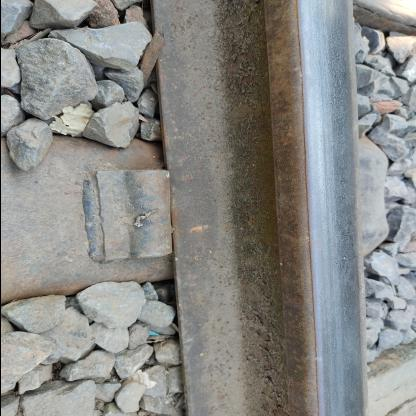Defective: (63, 138, 198, 297)
